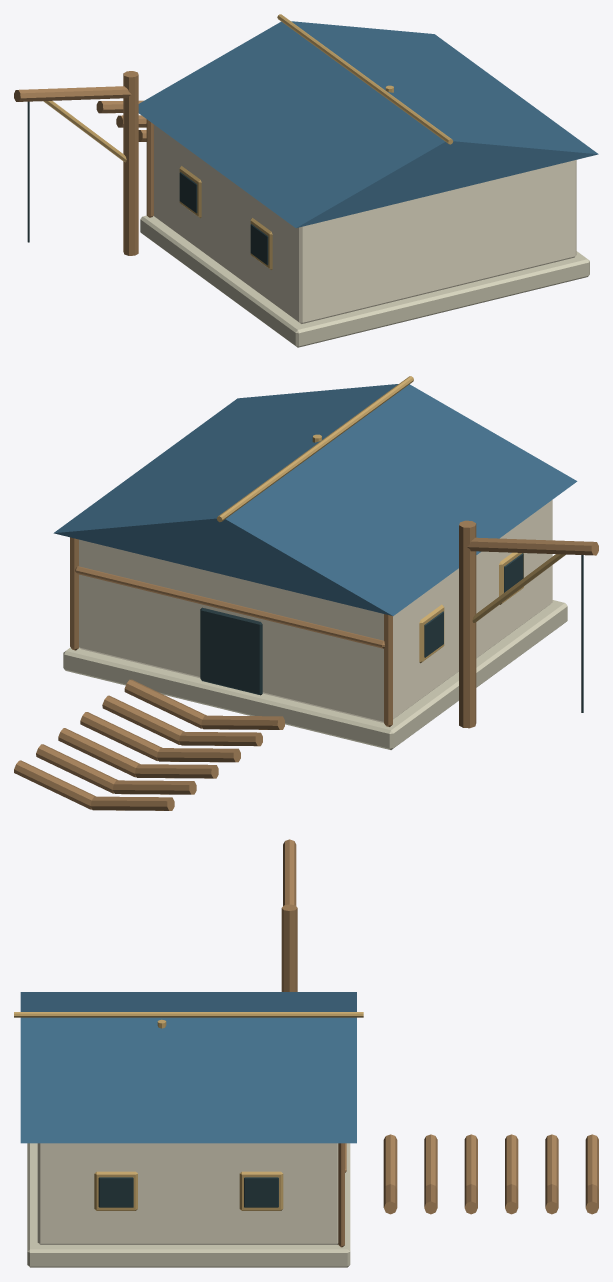
Rendered from level_03.glb.
3 views of the same model, one above another, from view 1: azimuth 30°, elevation 25°; view 2: azimuth 150°, elevation 25°; view 3: azimuth 270°, elevation 25° (orthographic). The views are drawn at different scales.
Visible parts, largest first — view 1: shipyard — level 03; view 2: shipyard — level 03; view 3: shipyard — level 03.
Part boxes in pixels (<box>): shipyard — level 03: <box>14,14,598,347</box>; shipyard — level 03: <box>14,376,598,810</box>; shipyard — level 03: <box>14,839,598,1267</box>.
Bounding box in the file's own units: 7.93 × 3.42 × 8.7.
